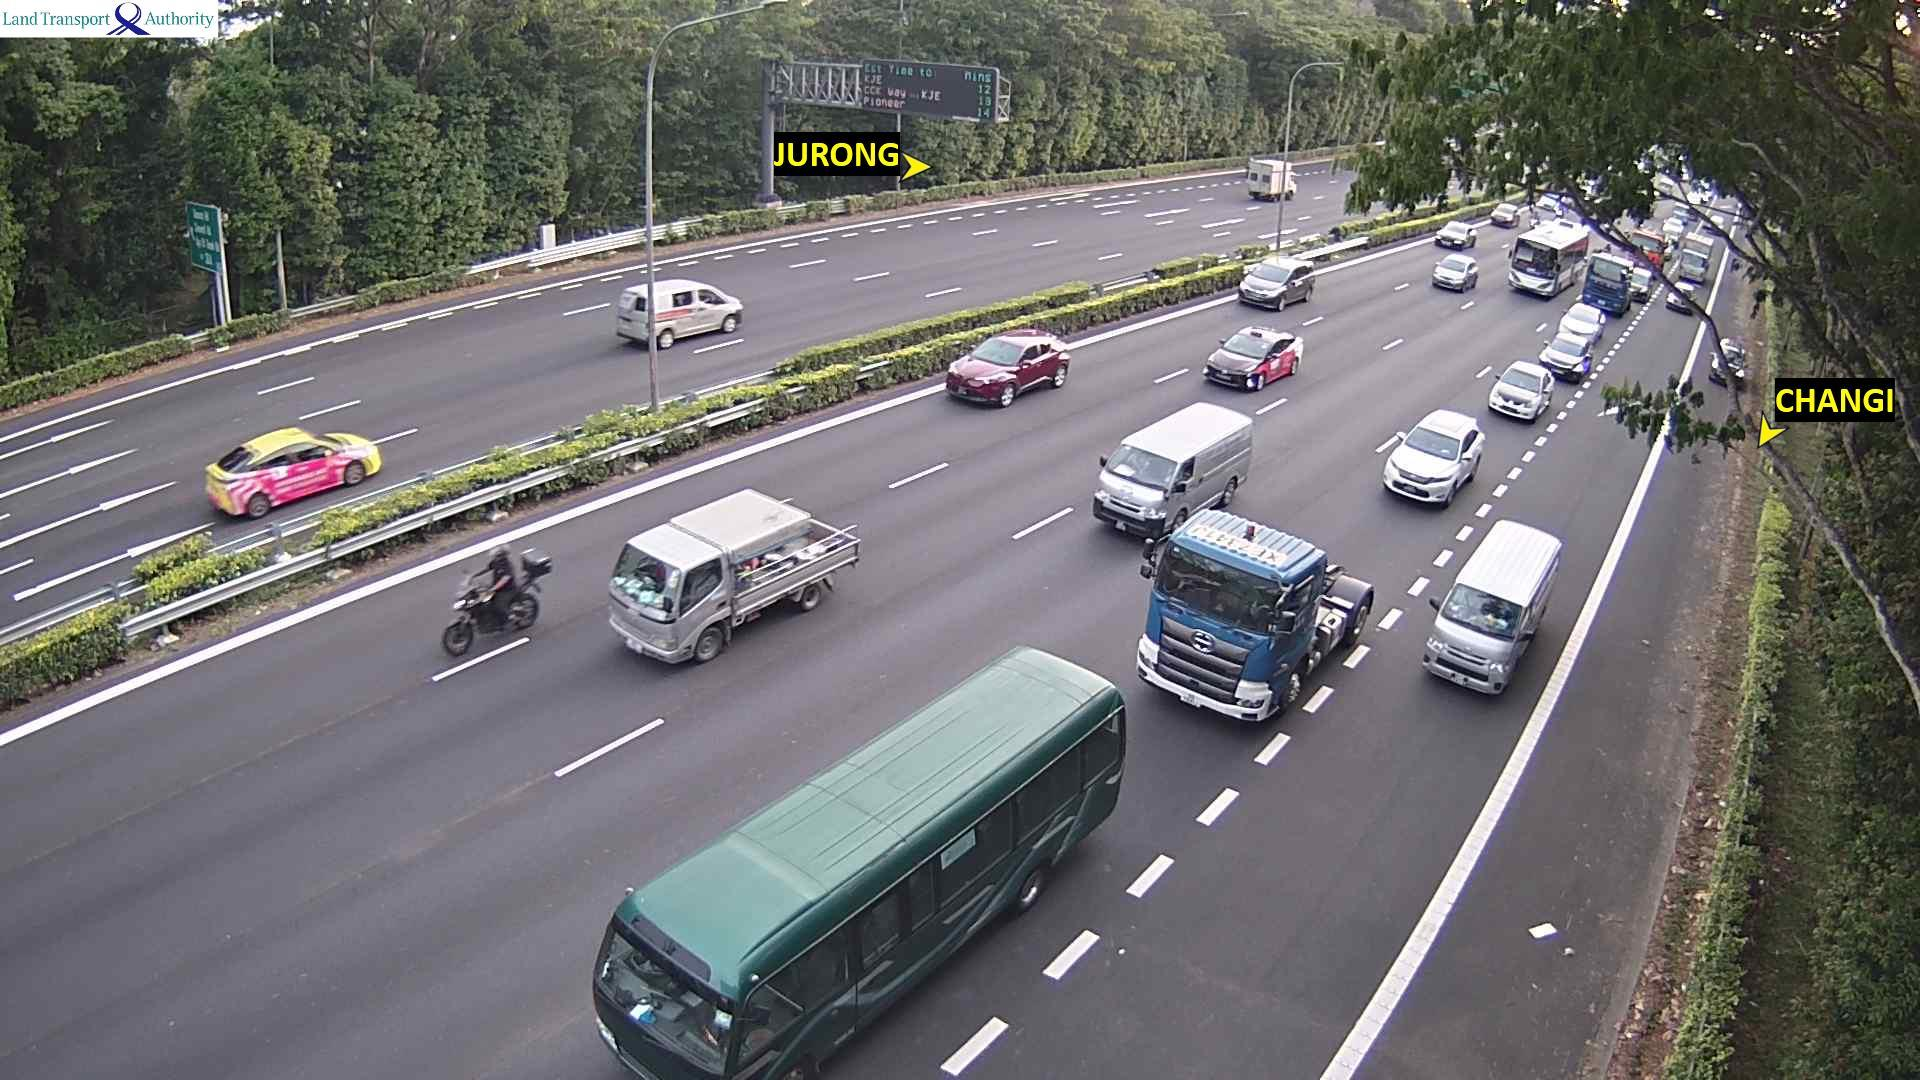incoming: (588, 888, 782, 1080), (1128, 531, 1303, 725), (605, 538, 722, 676), (1418, 579, 1536, 699), (1092, 441, 1191, 545), (1384, 424, 1475, 509), (943, 333, 1035, 410), (441, 565, 507, 657), (1203, 328, 1285, 394), (1487, 364, 1555, 426), (1505, 234, 1565, 303), (1235, 257, 1301, 313), (1581, 254, 1632, 318), (1538, 336, 1594, 386), (1556, 305, 1607, 345), (1431, 256, 1476, 295), (1676, 249, 1710, 286), (1435, 221, 1472, 252), (1490, 203, 1519, 230)
